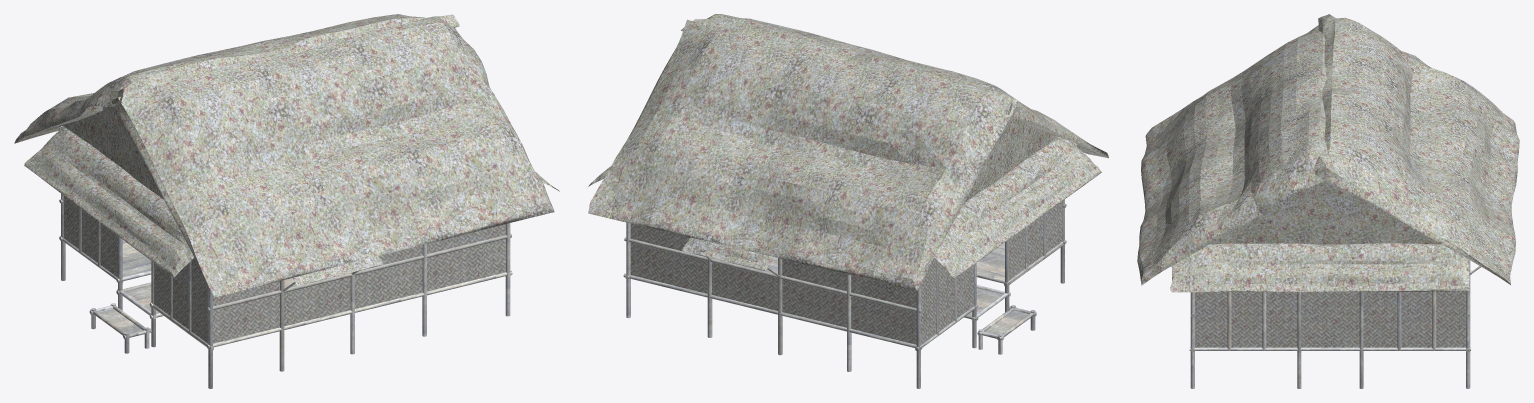
3 views of the same model, side by side, from view 1: azimuth 30°, elevation 25°; view 2: azimuth 150°, elevation 25°; view 3: azimuth 270°, elevation 25° (orthographic). The views are drawn at different scales.
Visible parts, largest first — view 1: Meshpart3, Meshpart4, Part97, Part92, Meshpart2, Part9, Part8, Wedge2, Part16, Part15, Part23, Part22 (+12 smaller); view 2: Meshpart2, Meshpart4, Part114, Part113, Meshpart3, Part16, Part15, Part60, Part59, Wedge1, Part9, Part8 (+13 smaller); view 3: Meshpart2, Meshpart3, Part132, Part127, Meshpart5, Wedge4, Wedge3, Union2, Part80, Part111, Part83, Part79 (+1 smaller).
Boxes of the visible parts, x1,y1,x2,y2 form: Meshpart3: [111, 15, 554, 297]; Meshpart4: [24, 126, 194, 277]; Part97: [213, 239, 505, 343]; Part92: [213, 239, 505, 343]; Meshpart2: [14, 14, 459, 143]; Part9: [154, 258, 208, 343]; Part8: [154, 258, 208, 343]; Wedge2: [59, 106, 134, 177]; Part16: [63, 196, 117, 277]; Part15: [64, 196, 117, 277]; Part23: [379, 224, 505, 264]; Part22: [379, 224, 505, 264]; Meshpart2: [588, 19, 1018, 291]; Meshpart4: [934, 137, 1101, 278]; Part114: [630, 242, 916, 344]; Part113: [630, 242, 916, 344]; Meshpart3: [681, 14, 1108, 158]; Part16: [921, 258, 974, 344]; Part15: [921, 258, 973, 344]; Part60: [782, 259, 916, 307]; Part59: [782, 259, 916, 307]; Wedge1: [989, 117, 1057, 185]; Part9: [1009, 201, 1062, 280]; Part8: [1009, 201, 1062, 279]; Meshpart2: [1315, 14, 1519, 284]; Meshpart3: [1137, 25, 1335, 285]; Part132: [1195, 291, 1465, 347]; Part127: [1195, 291, 1465, 347]; Meshpart5: [1170, 243, 1469, 292]; Wedge4: [1323, 180, 1440, 244]; Wedge3: [1210, 182, 1323, 244]; Union2: [1227, 291, 1436, 350]; Part80: [1189, 347, 1470, 350]; Part111: [1466, 260, 1470, 388]; Part83: [1359, 291, 1363, 388]; Part79: [1297, 292, 1301, 388].
Size of the model in its own units: 31.76 by 20.48 by 29.78.
8 materials, 8 textured.
